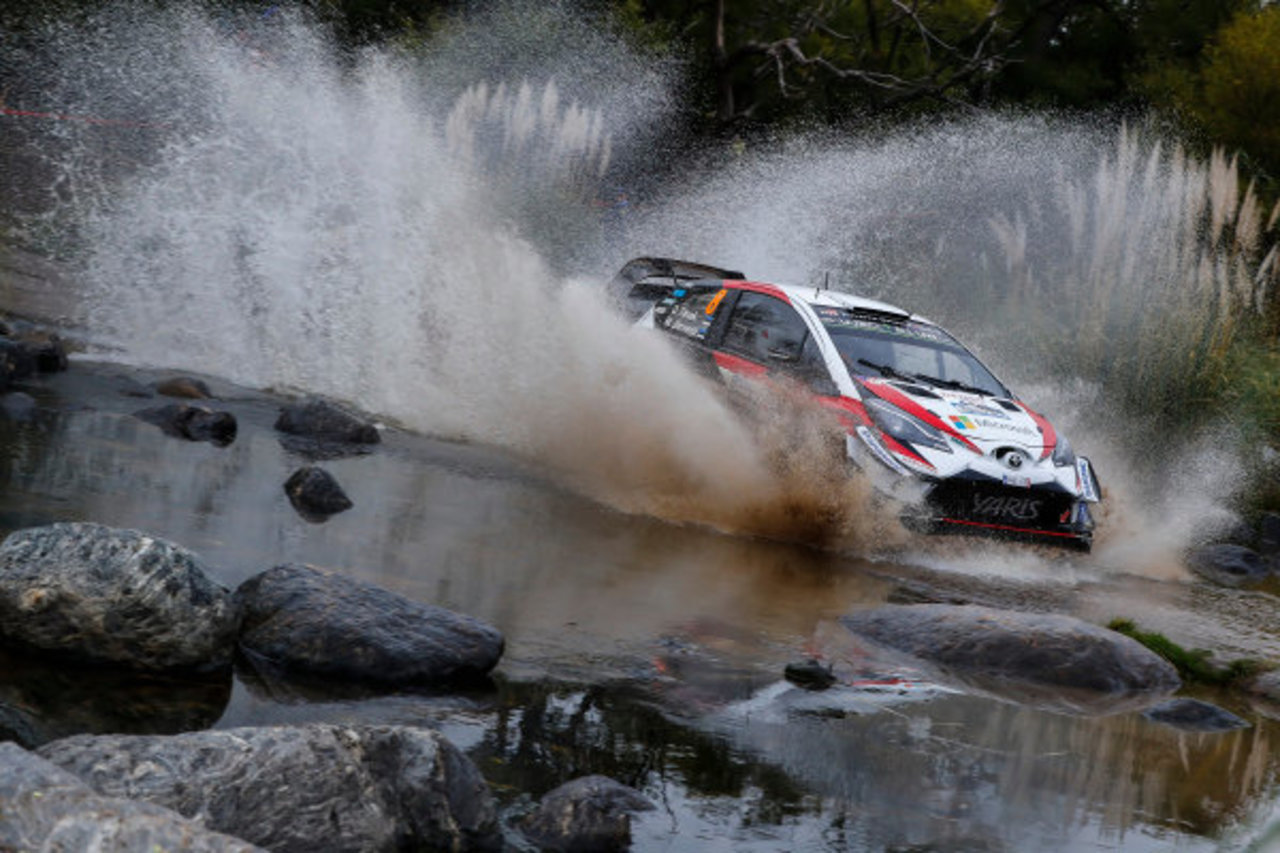car: (599, 252, 1107, 551)
